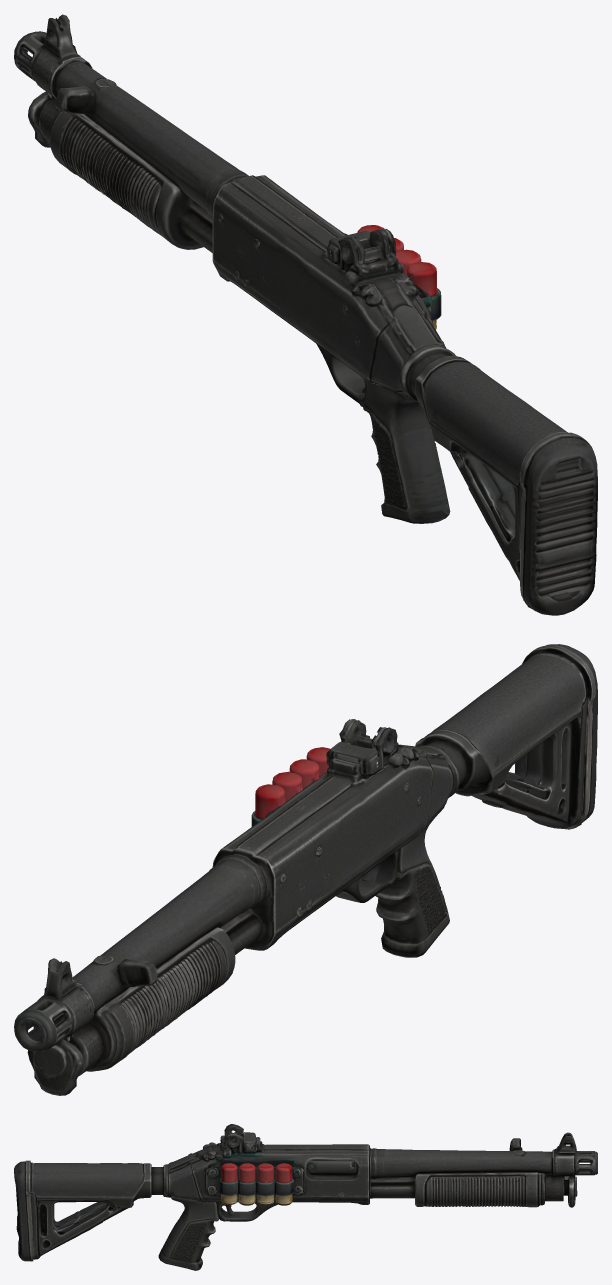
Rendered from shotgun.glb.
The picture shows the model from 3 angles, top to bottom: view 1: azimuth 30°, elevation 25°; view 2: azimuth 150°, elevation 25°; view 3: azimuth 270°, elevation 25°; orthographic projection. The views are drawn at different scales.
Parts seen in each view (by area): view 1: tripo_node_2ee9841c-5caa-4eb2-9f39-3c776b1c661d; view 2: tripo_node_2ee9841c-5caa-4eb2-9f39-3c776b1c661d; view 3: tripo_node_2ee9841c-5caa-4eb2-9f39-3c776b1c661d.
Part boxes in pixels (<box>): tripo_node_2ee9841c-5caa-4eb2-9f39-3c776b1c661d: <box>14,14,597,615</box>; tripo_node_2ee9841c-5caa-4eb2-9f39-3c776b1c661d: <box>14,644,597,1095</box>; tripo_node_2ee9841c-5caa-4eb2-9f39-3c776b1c661d: <box>14,1124,597,1270</box>.
Bounding box in the file's own units: 0.122 × 0.2553 × 0.9826.
1 material, 1 textured.
